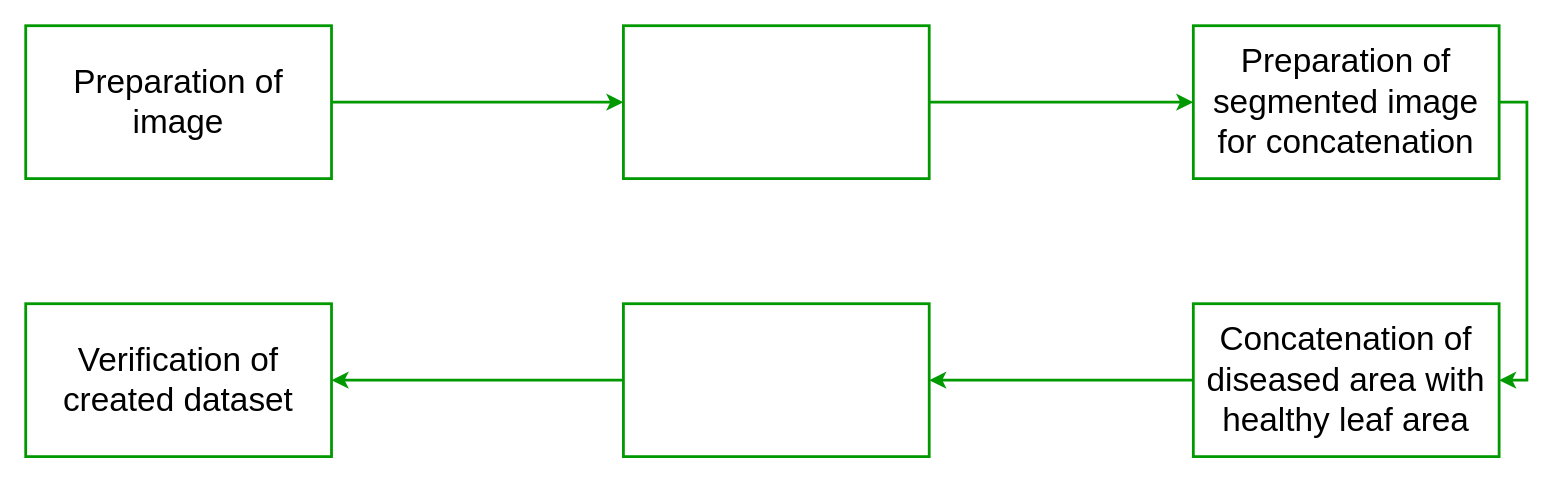
Some shapes in this 1562 by 481 pixel diagram are drawn without their labels. Here are the shapes that lost their labels. From the top down, the box of each, then its label:
(621, 24, 930, 179): Image segmentation
(621, 302, 930, 457): Generation of more dataset with GANs
